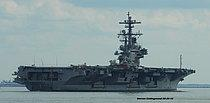MIL_Ship: (11, 14, 196, 92)
